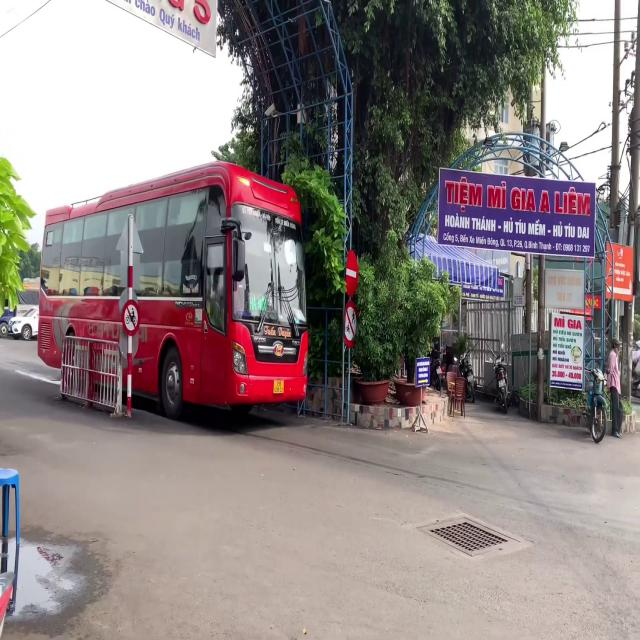bien_vang: (273, 379, 284, 394)
